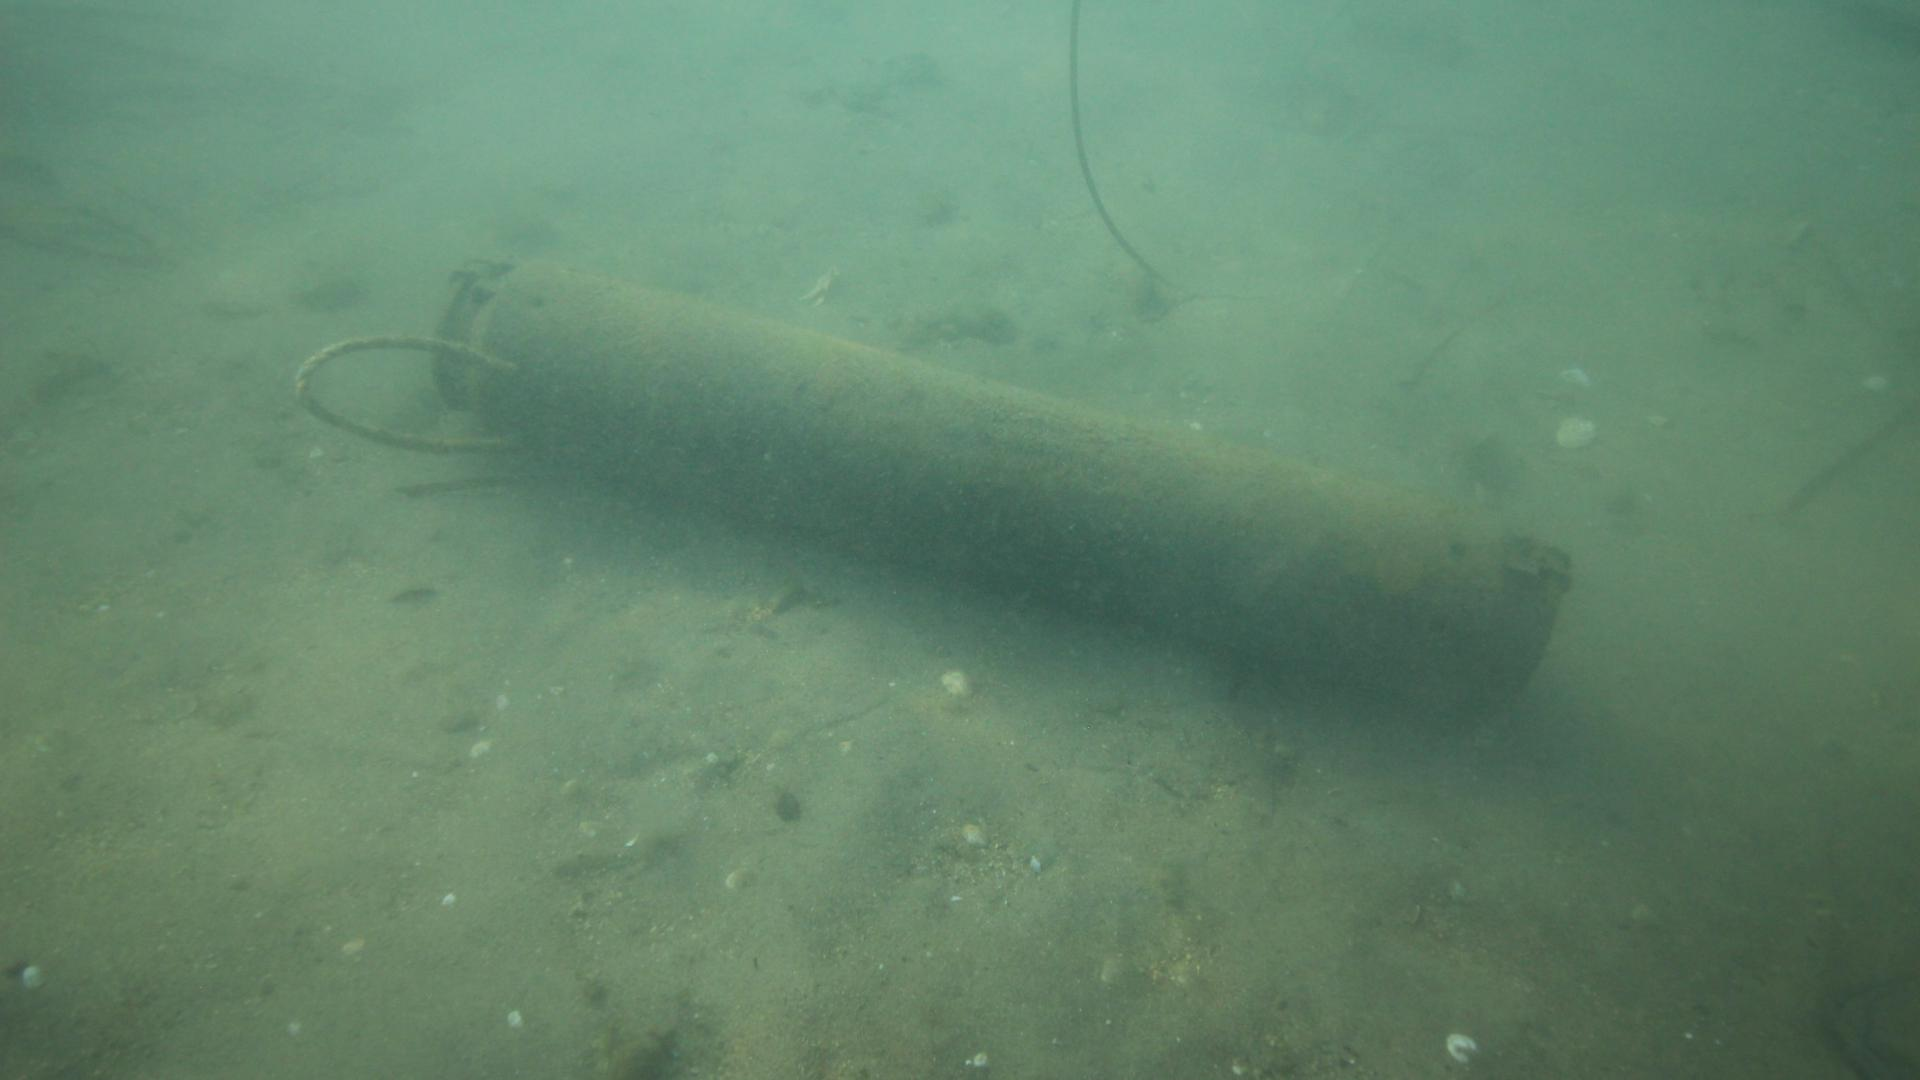eel fish trap: (429, 255, 1575, 717)
rope: (291, 332, 520, 446)
